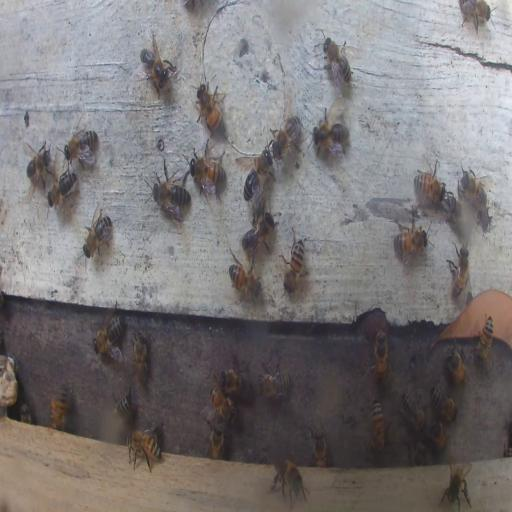nonpollenbee: (140, 35, 178, 93), (151, 168, 192, 218), (244, 142, 274, 210), (392, 212, 429, 266), (190, 143, 226, 198), (268, 458, 308, 506), (196, 70, 226, 133), (320, 34, 352, 90), (92, 310, 126, 362), (270, 108, 302, 163), (312, 111, 350, 157), (241, 211, 275, 259), (441, 460, 473, 511), (82, 206, 113, 258), (126, 428, 161, 473), (458, 161, 488, 213), (282, 228, 305, 294), (23, 139, 51, 192), (64, 126, 99, 167), (447, 243, 471, 300), (256, 362, 290, 399), (447, 192, 474, 238), (414, 165, 446, 203), (228, 262, 260, 300), (460, 0, 494, 34), (399, 392, 426, 434), (430, 383, 458, 422), (48, 168, 76, 206), (209, 383, 236, 422), (370, 396, 388, 454), (444, 347, 468, 386), (220, 367, 252, 396), (132, 331, 149, 385), (475, 315, 494, 363), (373, 329, 388, 383), (310, 426, 328, 468), (427, 418, 447, 452), (113, 386, 133, 418), (207, 423, 224, 458), (410, 440, 426, 464), (19, 402, 32, 422)
pollenbee: (51, 385, 70, 432)
